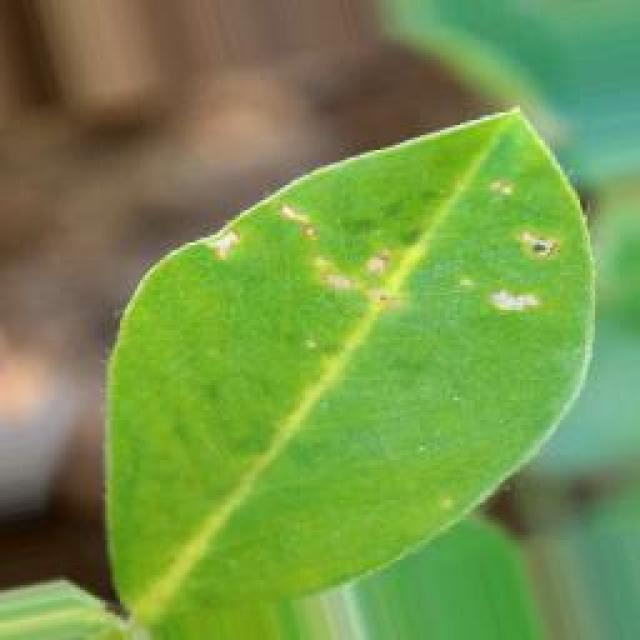Yellow_and_black_sigatoka: (92, 117, 600, 617)
